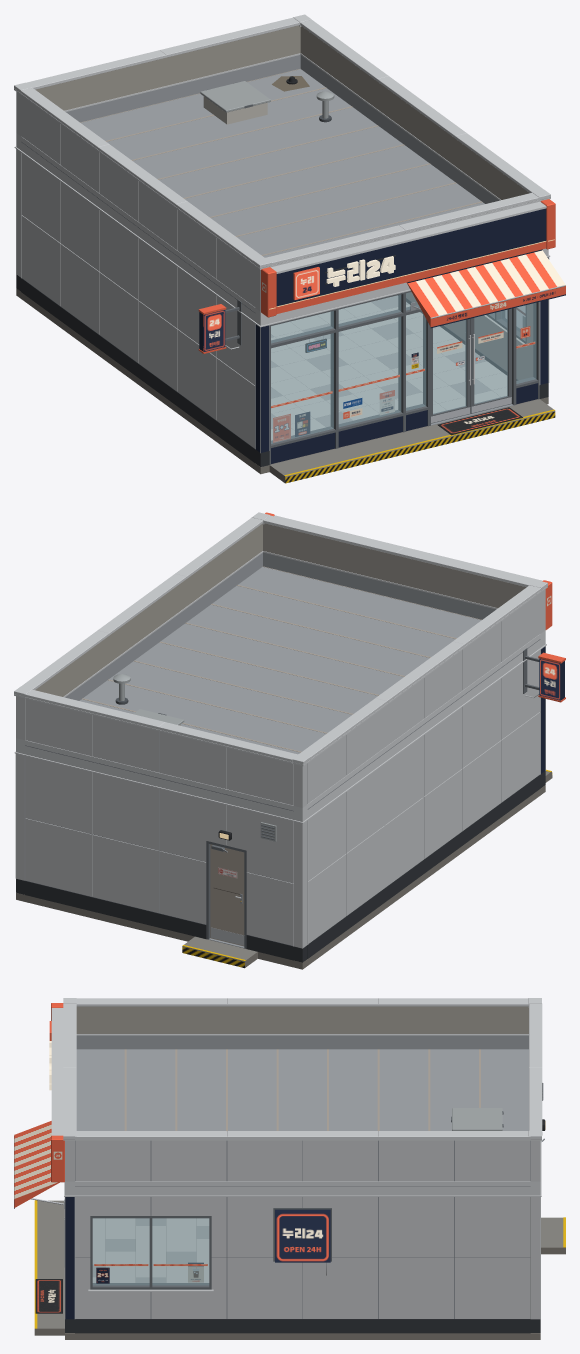
The model's file is SC_Bld_Store_Prefab_Store_Small.gltf.
3 renders of one model, top to bottom at view 1: azimuth 30°, elevation 25°; view 2: azimuth 150°, elevation 25°; view 3: azimuth 270°, elevation 25°, orthographic. The views are drawn at different scales.
Visible parts, largest first — view 1: SC_Bld_Store_Prefab_Store_Small; view 2: SC_Bld_Store_Prefab_Store_Small; view 3: SC_Bld_Store_Prefab_Store_Small.
Part boxes in pixels (x1,y1,x2,y2): SC_Bld_Store_Prefab_Store_Small: [14, 14, 565, 483]; SC_Bld_Store_Prefab_Store_Small: [14, 512, 565, 969]; SC_Bld_Store_Prefab_Store_Small: [14, 998, 565, 1339].
Bounding box in the file's own units: 7.4 × 4.46 × 10.91.
5 materials, 5 textured.
